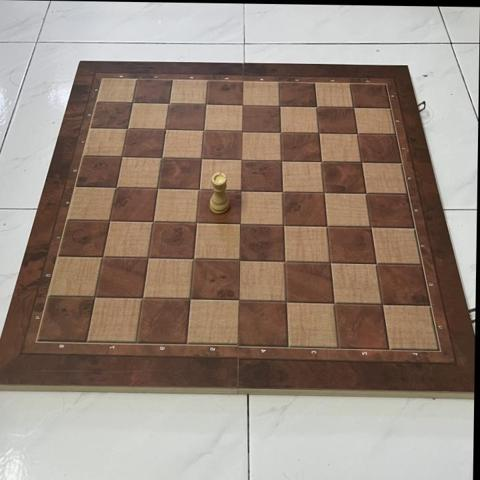xcorner: (125, 95, 142, 112), (198, 96, 215, 113), (271, 97, 288, 114), (308, 98, 325, 115), (120, 121, 137, 138), (158, 122, 175, 139), (196, 122, 213, 139), (234, 123, 251, 140), (310, 124, 327, 141), (154, 150, 171, 167), (233, 151, 250, 168), (273, 152, 290, 169), (353, 153, 370, 170), (191, 181, 208, 198), (232, 182, 249, 199), (315, 183, 332, 200), (357, 184, 374, 201), (188, 214, 205, 231), (231, 215, 248, 232), (318, 217, 335, 234), (95, 249, 112, 266), (140, 250, 157, 267), (229, 292, 246, 309), (277, 293, 294, 310), (373, 295, 390, 312), (162, 96, 178, 113), (235, 97, 251, 114), (345, 99, 362, 115), (272, 124, 289, 140), (349, 125, 366, 141), (115, 149, 131, 166), (313, 153, 330, 169), (150, 180, 166, 197), (102, 213, 119, 229), (145, 214, 162, 230), (275, 216, 291, 233), (362, 218, 379, 234), (185, 251, 202, 267), (230, 252, 247, 268), (321, 254, 338, 270), (367, 255, 384, 271), (87, 289, 104, 305), (134, 290, 151, 306), (182, 291, 198, 308), (325, 294, 341, 311), (194, 151, 210, 167), (109, 180, 125, 196), (274, 183, 290, 199), (276, 253, 292, 269)
